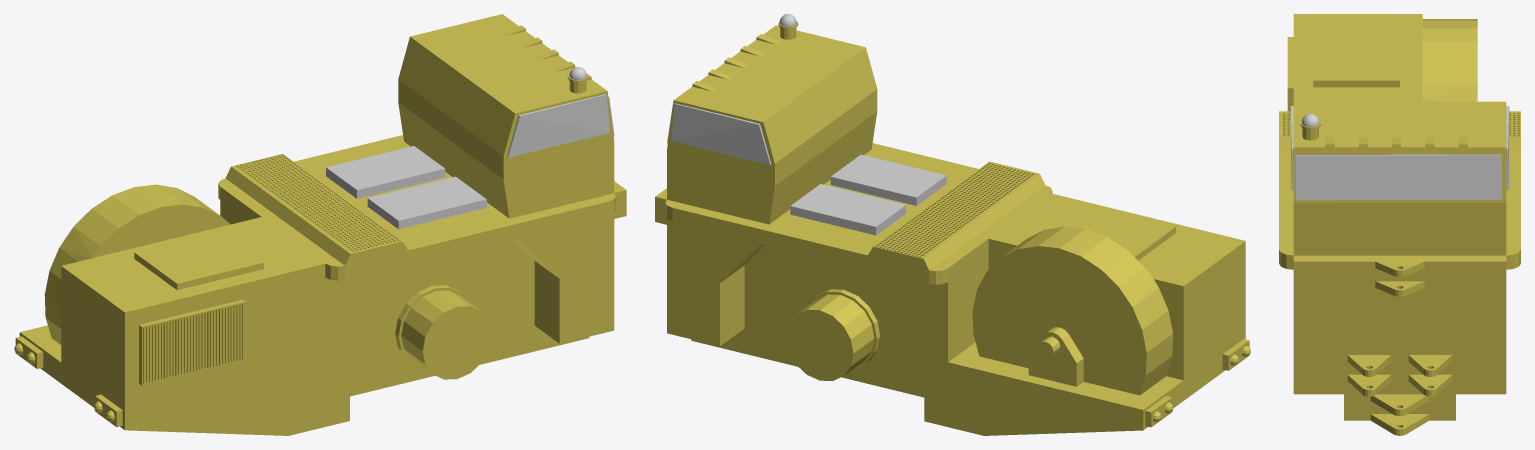
File: behindbase_Link.dae
3 views of the same model, side by side, from view 1: azimuth 30°, elevation 25°; view 2: azimuth 150°, elevation 25°; view 3: azimuth 270°, elevation 25° (orthographic). The views are drawn at different scales.
Parts seen in each view (by area): view 1: behindbase_Link, Cube, Cube_003, Cube_004; view 2: behindbase_Link, Cube_001, Cube_003, Cube_004; view 3: behindbase_Link, Cube_002, Cube, Cube_001.
Boxes of the visible parts, x1,y1,x2,y2 form: behindbase_Link: (14, 14, 626, 435); Cube: (507, 94, 609, 157); Cube_003: (326, 146, 445, 198); Cube_004: (367, 176, 486, 229); behindbase_Link: (655, 21, 1250, 435); Cube_001: (671, 103, 771, 164); Cube_003: (790, 184, 906, 235); Cube_004: (830, 154, 946, 205); behindbase_Link: (1279, 14, 1520, 435); Cube_002: (1295, 154, 1502, 200); Cube: (1290, 106, 1293, 189); Cube_001: (1506, 106, 1509, 189).
Bounding box in the file's own units: 4.29 × 1.67 × 2.23.
